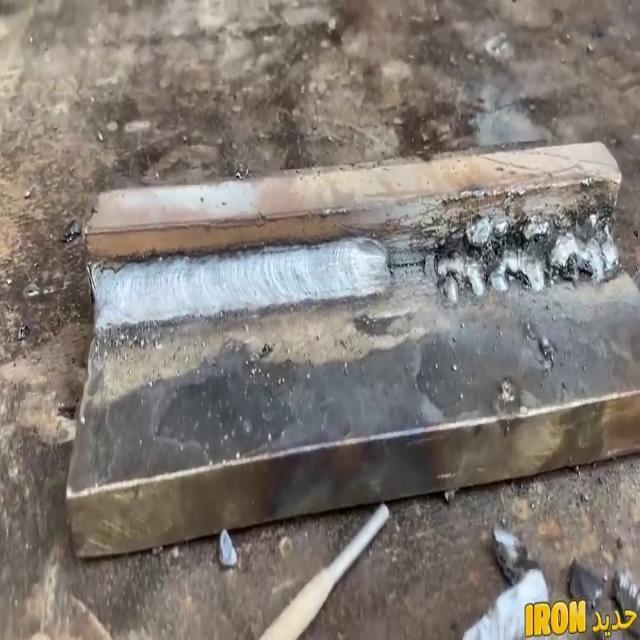Bad Weld: (432, 199, 624, 294)
Defect: (94, 258, 127, 276)
Good Weld: (90, 231, 396, 332)
